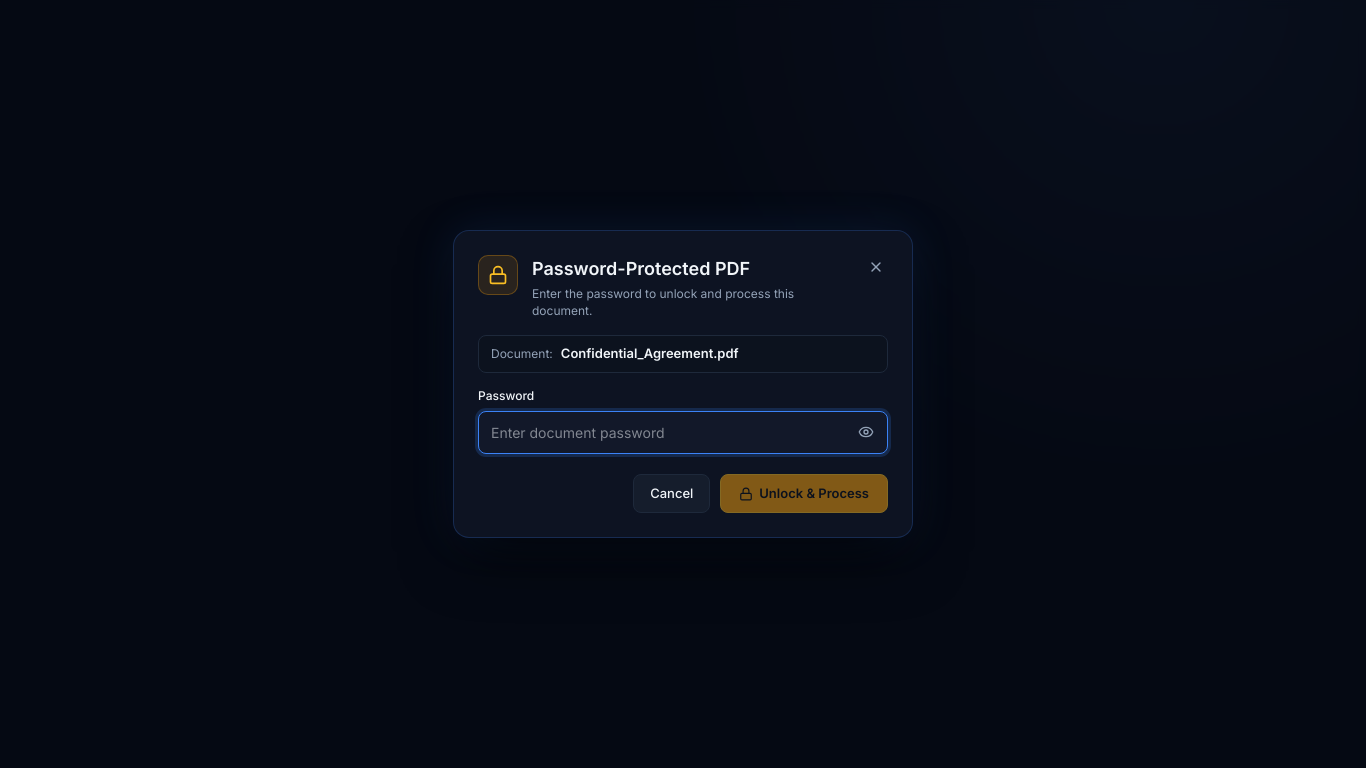
Test: Password-Protected PDF Components › PasswordPromptModal renders document title, password field, and toggle
Expected: the heading "Password-Protected PDF" is shown, [532, 258, 750, 279]
Expected: the text "Confidential_Agreement.pdf" is shown, [561, 344, 739, 364]
// Toggle show password
Step 1. Click the button named "Show password" → (866, 432), box [854, 420, 878, 444]
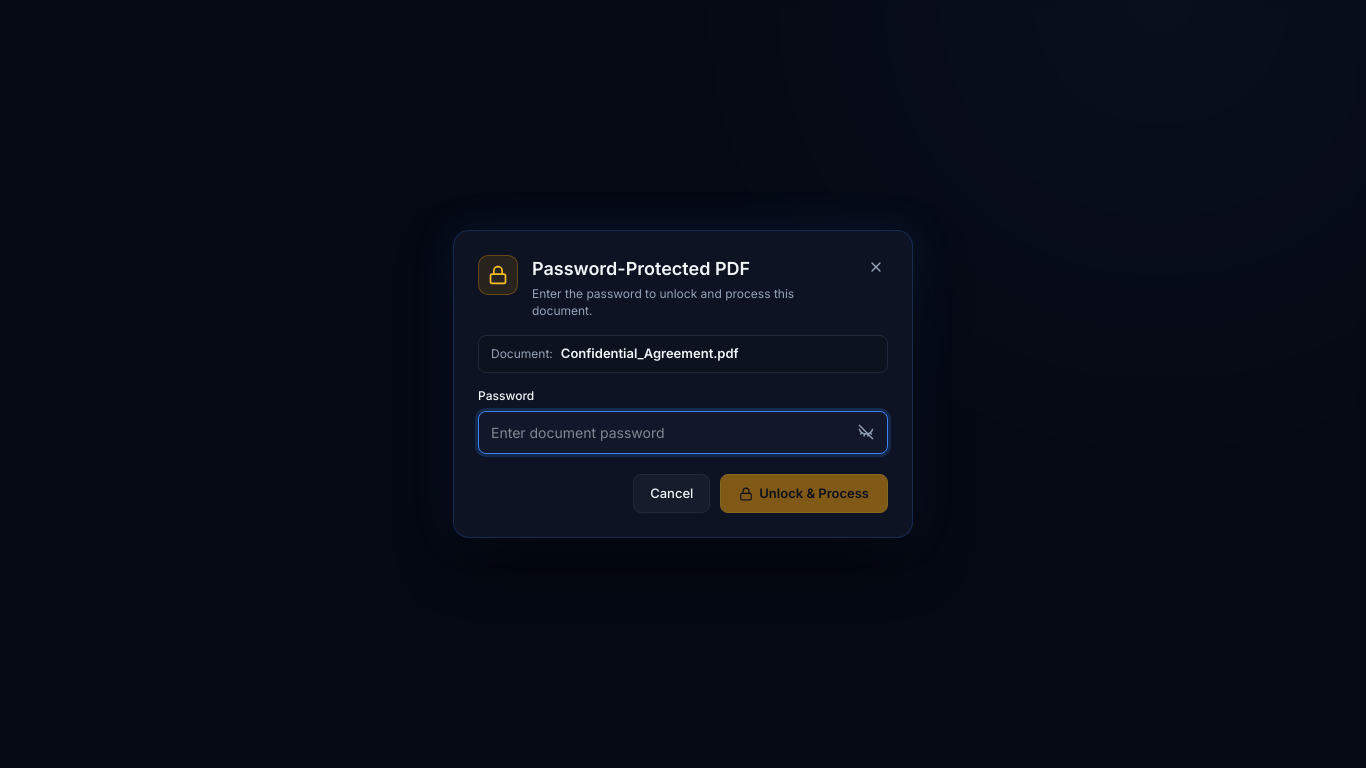
Now the button named "Hide password" is shown, box [854, 420, 878, 444]
